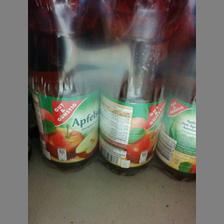juice: (99, 2, 169, 176), (31, 3, 98, 172), (157, 6, 195, 181)
